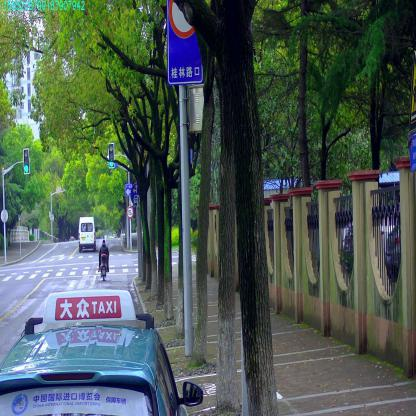traffic-light: (23, 149, 29, 173), (109, 143, 114, 168)
